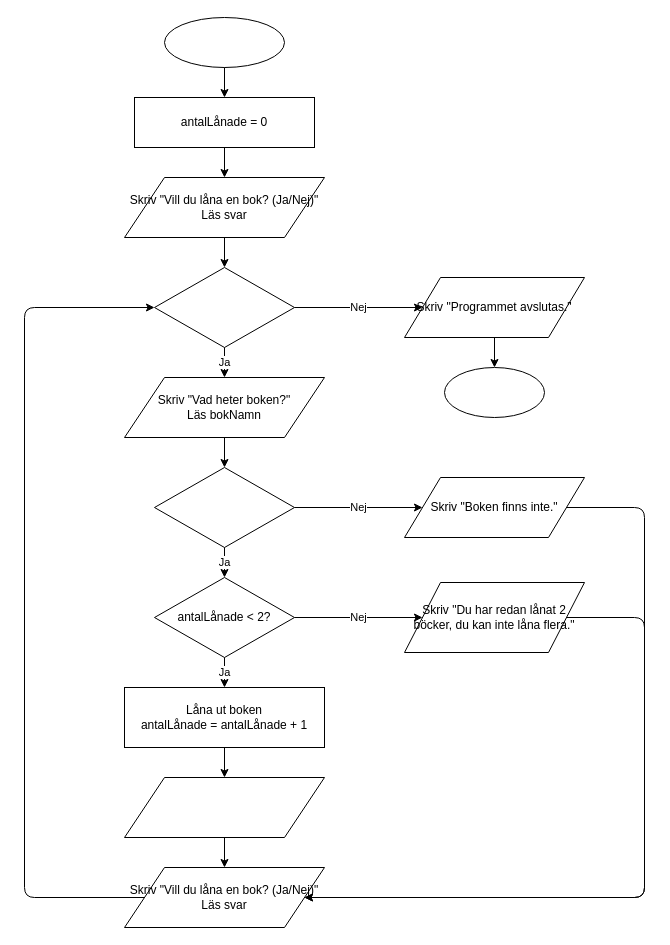
Image size: 670x945. Some labels were removed from this diagram. The shapes that lost their labels are listed below. From the top down, each one's centre as x and y in pixels, then its label:
(224,42): Start
(224,307): svar == "Ja"?
(494,392): Slut
(224,507): boken finns?
(224,807): Skriv "Du har lånat: " + bokNamn
